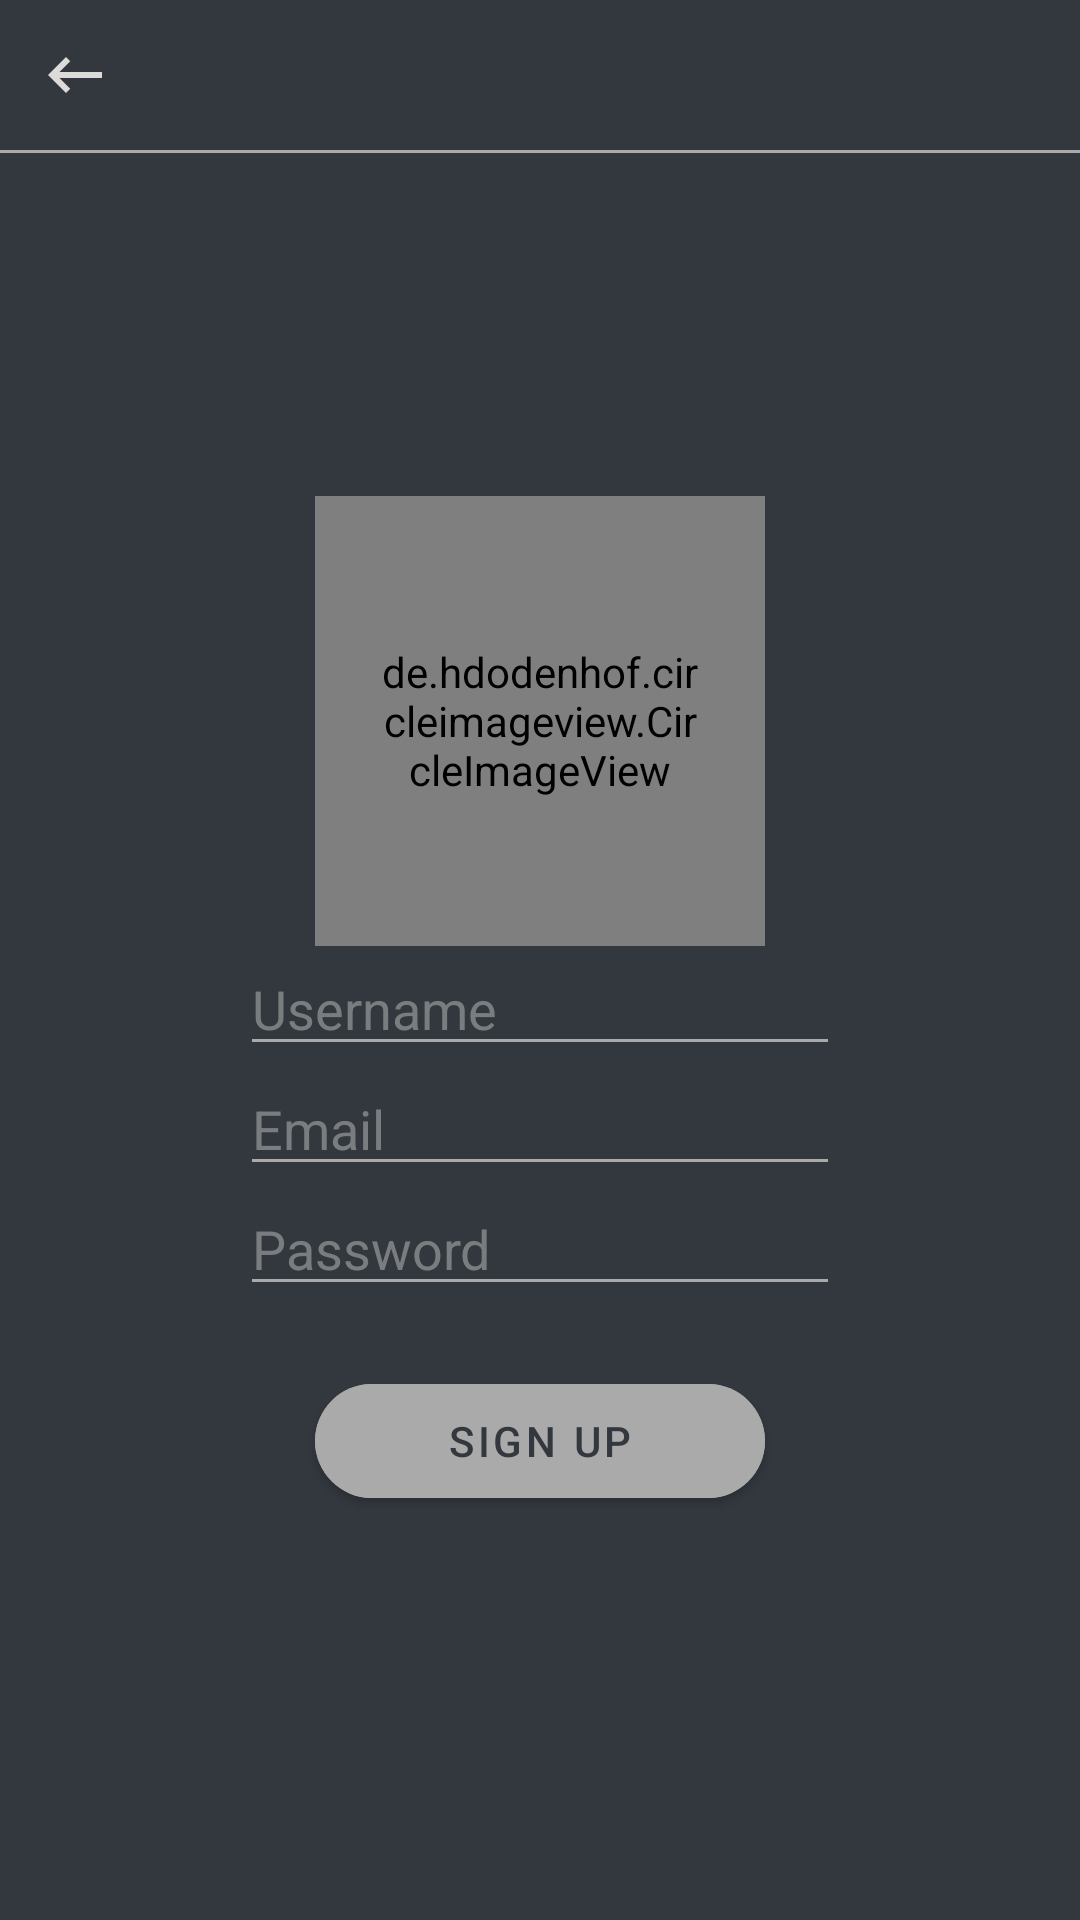

Locate icon controls on the screen. Image size 1080 × 1920, boxes as (x1, y1, x2, y2).
Goes Back To The Previous Page: (48, 57, 102, 93)
